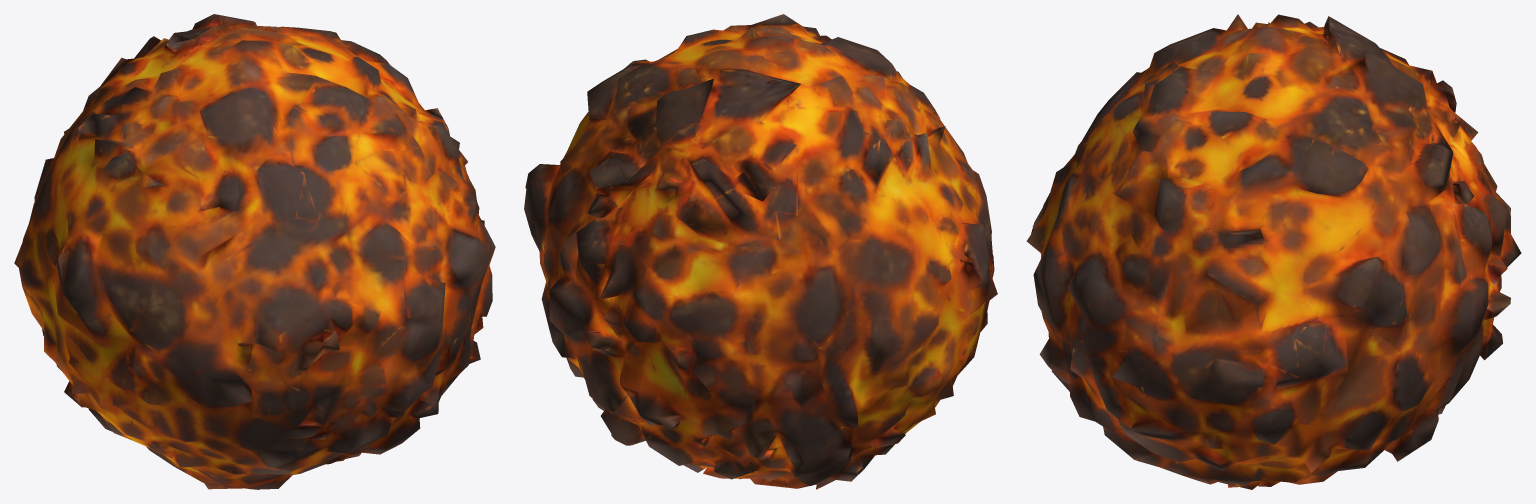
File: bola_de_lava_3d.obj
The picture shows the model from 3 angles, left to right: view 1: azimuth 30°, elevation 25°; view 2: azimuth 150°, elevation 25°; view 3: azimuth 270°, elevation 25°; orthographic projection. The views are drawn at different scales.
Visible parts, largest first — view 1: bola_lava; view 2: bola_lava; view 3: bola_lava.
Part boxes in pixels (<box>): bola_lava: <box>14,14,495,489</box>; bola_lava: <box>524,14,997,489</box>; bola_lava: <box>1026,14,1521,489</box>.
Bounding box in the file's own units: 2 × 1.99 × 2.02.
Materials: 1 (1 with a texture image).
